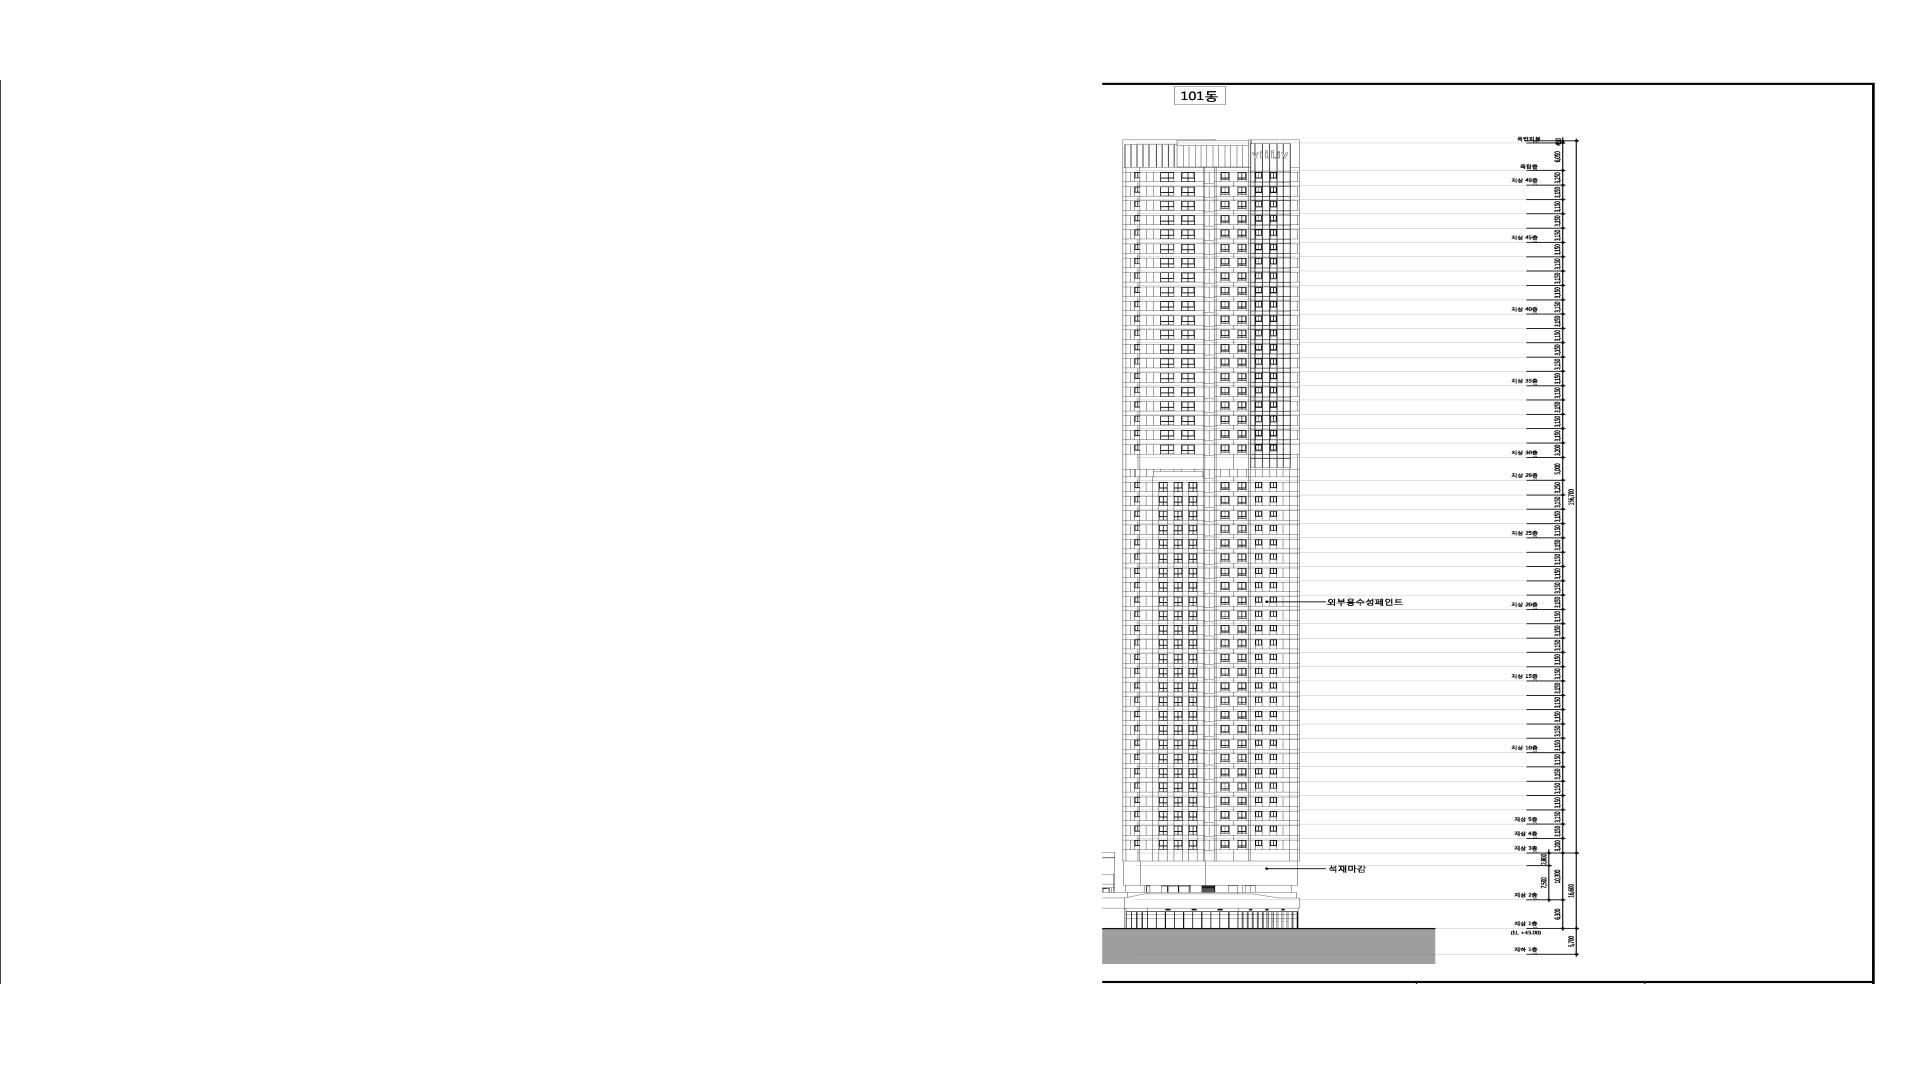wall: (1123, 140, 1300, 929)
window: (1181, 201, 1195, 211), (1181, 215, 1195, 225), (1181, 229, 1195, 239), (1181, 244, 1195, 254), (1181, 258, 1195, 268), (1181, 330, 1195, 340), (1181, 373, 1195, 383), (1181, 387, 1195, 397), (1160, 415, 1174, 425), (1160, 215, 1174, 225), (1160, 258, 1174, 268), (1160, 272, 1174, 282), (1160, 344, 1174, 354), (1160, 358, 1174, 368), (1181, 272, 1195, 282), (1181, 287, 1195, 297), (1181, 301, 1195, 311), (1181, 344, 1195, 354), (1181, 358, 1195, 368), (1181, 401, 1195, 411), (1181, 415, 1195, 425), (1160, 401, 1174, 411), (1160, 387, 1174, 397), (1160, 229, 1174, 239), (1160, 315, 1174, 325), (1181, 172, 1195, 182), (1181, 186, 1195, 196), (1181, 430, 1195, 440), (1181, 444, 1195, 454), (1160, 444, 1174, 454), (1160, 430, 1174, 440), (1160, 372, 1174, 382), (1160, 172, 1174, 182), (1160, 186, 1174, 196), (1160, 200, 1174, 210), (1160, 287, 1174, 297), (1160, 301, 1174, 311), (1181, 316, 1195, 325), (1160, 244, 1174, 253), (1160, 330, 1174, 339), (1188, 482, 1197, 492), (1174, 482, 1183, 492), (1159, 482, 1168, 492), (1188, 496, 1197, 506), (1188, 511, 1197, 521), (1188, 539, 1197, 549), (1189, 553, 1198, 563), (1174, 496, 1183, 506), (1159, 525, 1168, 535), (1159, 539, 1168, 549), (1189, 611, 1198, 621), (1188, 625, 1197, 635), (1174, 625, 1183, 635), (1188, 654, 1197, 664), (1159, 639, 1168, 649), (1174, 654, 1183, 664), (1159, 668, 1168, 678), (1159, 682, 1168, 692), (1188, 768, 1197, 778), (1174, 739, 1183, 749), (1174, 754, 1183, 764), (1159, 754, 1168, 764), (1159, 768, 1168, 778), (1188, 782, 1197, 792), (1188, 840, 1197, 850), (1174, 797, 1183, 807), (1174, 811, 1183, 821), (1159, 840, 1168, 850), (1159, 496, 1168, 506), (1159, 510, 1168, 520), (1159, 553, 1168, 563), (1188, 568, 1197, 578), (1174, 596, 1183, 606), (1174, 611, 1183, 621), (1159, 582, 1168, 592), (1188, 639, 1197, 649), (1174, 668, 1183, 678), (1174, 682, 1183, 692), (1188, 711, 1197, 721), (1174, 711, 1183, 721), (1174, 725, 1183, 735), (1159, 725, 1168, 735), (1188, 797, 1197, 807), (1188, 811, 1197, 821), (1174, 782, 1183, 792), (1159, 797, 1168, 807), (1159, 811, 1168, 821), (1159, 825, 1168, 835), (1174, 525, 1183, 535), (1174, 539, 1183, 549), (1174, 553, 1183, 563), (1188, 582, 1197, 592), (1188, 596, 1197, 606), (1174, 568, 1183, 578), (1174, 582, 1183, 592), (1159, 596, 1168, 606), (1159, 611, 1168, 621), (1189, 682, 1198, 692), (1188, 696, 1197, 706), (1174, 639, 1183, 649), (1174, 696, 1183, 706), (1188, 725, 1197, 735), (1188, 739, 1197, 749), (1174, 768, 1183, 778), (1159, 711, 1168, 721), (1174, 840, 1183, 850), (1188, 525, 1197, 534), (1174, 511, 1183, 520), (1189, 754, 1198, 763), (1159, 697, 1168, 706), (1174, 826, 1183, 835), (1159, 568, 1167, 578), (1189, 668, 1197, 678), (1189, 825, 1197, 835), (1159, 625, 1167, 635), (1159, 739, 1167, 749), (1159, 782, 1167, 792), (1220, 287, 1229, 295), (1237, 301, 1246, 309), (1221, 316, 1230, 324), (1220, 482, 1229, 490), (1237, 511, 1246, 519), (1238, 539, 1247, 547), (1220, 611, 1229, 619), (1221, 625, 1230, 633), (1238, 682, 1247, 690), (1221, 654, 1230, 662), (1221, 668, 1230, 676), (1238, 725, 1247, 733), (1237, 740, 1246, 748), (1238, 754, 1247, 762), (1237, 768, 1246, 776), (1238, 172, 1247, 180), (1238, 187, 1247, 195), (1238, 201, 1247, 209), (1238, 215, 1247, 223), (1221, 215, 1230, 223), (1237, 229, 1246, 237), (1238, 244, 1247, 252), (1238, 258, 1247, 266), (1238, 272, 1247, 280), (1238, 373, 1247, 381), (1220, 373, 1229, 381), (1238, 387, 1247, 395), (1221, 387, 1230, 395), (1220, 639, 1229, 647), (1221, 682, 1230, 690), (1221, 725, 1230, 733), (1221, 768, 1230, 776), (1221, 258, 1230, 266), (1238, 344, 1247, 352), (1220, 358, 1229, 366), (1238, 401, 1247, 409), (1220, 401, 1229, 409), (1237, 415, 1246, 423), (1238, 430, 1247, 438), (1237, 445, 1246, 453), (1159, 654, 1167, 663), (1237, 496, 1246, 504), (1221, 496, 1230, 504), (1221, 525, 1230, 533), (1221, 553, 1230, 561), (1238, 568, 1247, 576), (1238, 582, 1247, 590), (1238, 596, 1247, 604), (1220, 582, 1229, 590), (1237, 668, 1246, 676), (1237, 811, 1246, 819), (1237, 825, 1246, 833), (1221, 782, 1230, 790), (1221, 840, 1230, 848), (1221, 301, 1229, 309), (1238, 330, 1246, 338), (1238, 482, 1246, 490), (1238, 525, 1246, 533), (1221, 596, 1229, 604), (1238, 639, 1246, 647), (1238, 711, 1246, 719), (1221, 172, 1229, 180), (1221, 201, 1229, 209), (1221, 711, 1229, 719), (1221, 740, 1229, 748), (1221, 754, 1229, 762), (1238, 287, 1246, 295), (1221, 229, 1229, 237), (1221, 244, 1229, 252), (1221, 272, 1229, 280), (1221, 330, 1229, 338), (1221, 344, 1229, 352), (1238, 358, 1246, 366), (1221, 430, 1229, 438), (1221, 539, 1229, 547), (1238, 553, 1246, 561), (1238, 611, 1246, 619), (1238, 625, 1246, 633), (1221, 568, 1229, 576), (1238, 782, 1246, 790), (1238, 797, 1246, 805), (1221, 797, 1229, 805), (1221, 811, 1229, 819), (1238, 840, 1246, 848), (1254, 329, 1263, 336), (1254, 344, 1263, 351), (1238, 316, 1247, 323), (1220, 187, 1229, 194), (1254, 200, 1263, 207), (1254, 215, 1263, 222), (1220, 416, 1229, 423), (1220, 511, 1229, 518), (1237, 654, 1246, 661), (1255, 272, 1263, 279), (1255, 386, 1263, 393), (1269, 200, 1277, 207), (1269, 215, 1277, 222), (1269, 329, 1277, 336), (1238, 697, 1246, 704), (1221, 697, 1229, 704), (1269, 344, 1277, 351), (1269, 401, 1277, 408), (1269, 415, 1277, 422), (1221, 445, 1229, 452), (1221, 826, 1229, 833), (1254, 301, 1263, 307), (1254, 358, 1263, 364), (1254, 373, 1263, 379), (1254, 402, 1263, 408), (1254, 415, 1263, 421), (1254, 444, 1263, 450), (1254, 187, 1263, 193), (1254, 229, 1263, 235), (1270, 782, 1277, 789), (1255, 825, 1262, 832), (1270, 553, 1277, 560), (1255, 596, 1262, 603), (1255, 682, 1262, 689), (1255, 696, 1262, 703), (1255, 739, 1262, 746), (1270, 825, 1277, 832), (1255, 782, 1262, 789), (1255, 258, 1263, 264), (1255, 287, 1263, 293), (1255, 316, 1263, 322), (1255, 430, 1263, 436), (1269, 172, 1277, 178), (1255, 172, 1263, 178), (1269, 187, 1277, 193), (1269, 229, 1277, 235), (1269, 244, 1277, 250), (1269, 258, 1277, 264), (1269, 272, 1277, 278), (1269, 287, 1277, 293), (1269, 301, 1277, 307), (1269, 316, 1277, 322), (1269, 358, 1277, 364), (1269, 373, 1277, 379), (1269, 387, 1277, 393), (1269, 430, 1277, 436), (1269, 444, 1277, 450), (1255, 244, 1263, 250), (1134, 229, 1140, 236), (1134, 315, 1140, 322), (1134, 401, 1140, 408), (1134, 415, 1140, 422), (1134, 444, 1140, 451), (1134, 782, 1140, 789), (1134, 825, 1140, 832), (1270, 482, 1277, 488), (1255, 482, 1262, 488), (1270, 496, 1277, 502), (1270, 511, 1277, 517), (1270, 525, 1277, 531), (1270, 539, 1277, 545), (1255, 553, 1262, 559), (1270, 568, 1277, 574), (1270, 582, 1277, 588), (1270, 597, 1277, 603), (1270, 611, 1277, 617), (1270, 625, 1277, 631), (1270, 654, 1277, 660), (1270, 668, 1277, 674), (1270, 682, 1277, 688), (1255, 639, 1262, 645), (1255, 654, 1262, 660), (1255, 668, 1262, 674), (1255, 754, 1262, 760), (1270, 768, 1277, 774), (1270, 797, 1277, 803), (1270, 811, 1277, 817), (1255, 811, 1262, 817), (1255, 840, 1262, 846), (1134, 596, 1140, 603), (1134, 186, 1140, 193), (1134, 272, 1140, 279), (1134, 682, 1140, 689), (1255, 496, 1262, 502), (1255, 511, 1262, 517), (1255, 525, 1262, 531), (1255, 539, 1262, 545), (1255, 568, 1262, 574), (1255, 582, 1262, 588), (1255, 611, 1262, 617), (1255, 625, 1262, 631), (1270, 639, 1277, 645), (1270, 697, 1277, 703), (1270, 711, 1277, 717), (1270, 725, 1277, 731), (1270, 740, 1277, 746), (1270, 754, 1277, 760), (1255, 711, 1262, 717), (1255, 725, 1262, 731), (1270, 840, 1277, 846), (1255, 768, 1262, 774), (1255, 797, 1262, 803), (1134, 244, 1140, 250), (1134, 330, 1140, 336), (1134, 387, 1140, 393), (1134, 430, 1140, 436), (1134, 482, 1140, 488), (1134, 725, 1140, 731), (1134, 740, 1140, 746), (1134, 754, 1140, 760), (1134, 768, 1140, 774), (1134, 797, 1140, 803), (1134, 811, 1140, 817), (1134, 840, 1140, 846), (1134, 201, 1140, 207), (1134, 215, 1140, 221), (1134, 287, 1140, 293), (1134, 301, 1140, 307), (1134, 344, 1140, 350), (1134, 358, 1140, 364), (1134, 496, 1140, 502), (1134, 511, 1140, 517), (1134, 525, 1140, 531), (1134, 539, 1140, 545), (1134, 553, 1140, 559), (1134, 568, 1140, 574), (1134, 582, 1140, 588), (1134, 611, 1140, 617), (1134, 172, 1140, 178), (1134, 258, 1140, 264), (1134, 373, 1140, 379), (1134, 625, 1140, 631), (1134, 639, 1140, 645), (1134, 654, 1140, 660), (1134, 668, 1140, 674), (1134, 711, 1140, 717), (1135, 696, 1140, 703)
